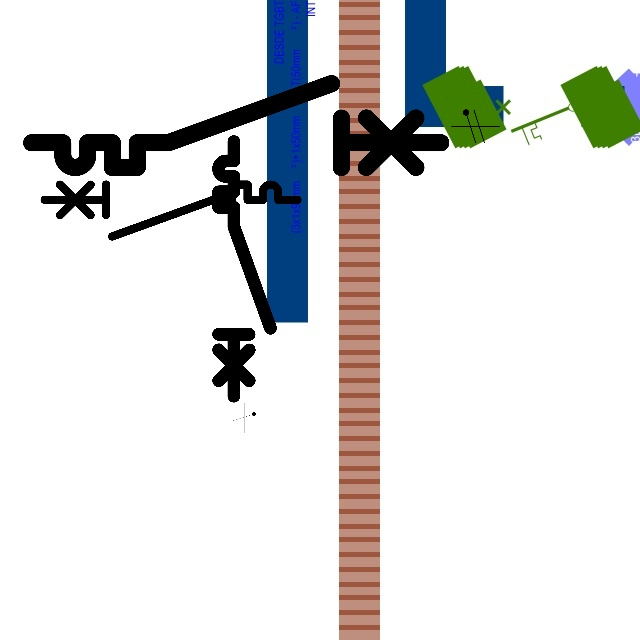interruptor_termomagnetico: (21, 73, 451, 178), (212, 135, 277, 402), (38, 178, 304, 243)
